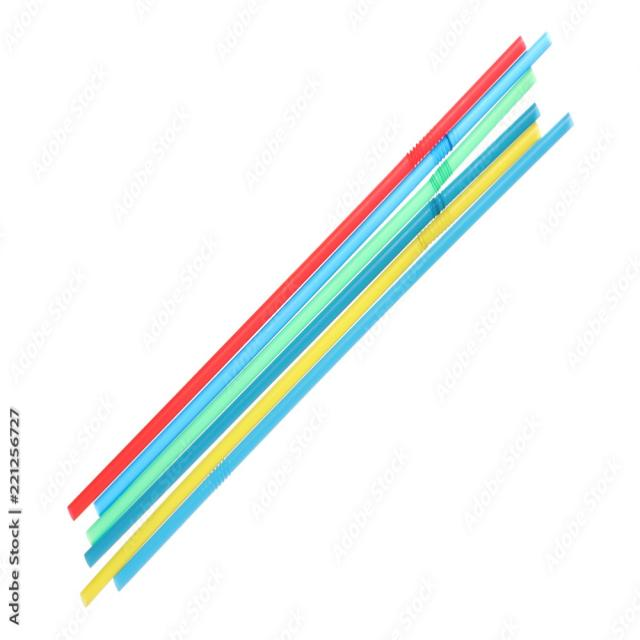plastic: (38, 23, 612, 617)
